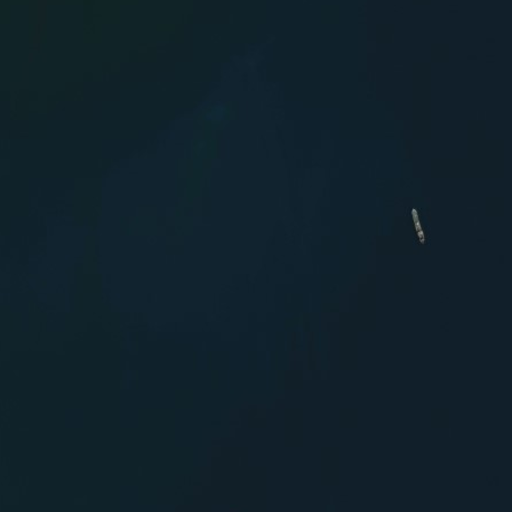ship: (408, 205, 429, 247)
